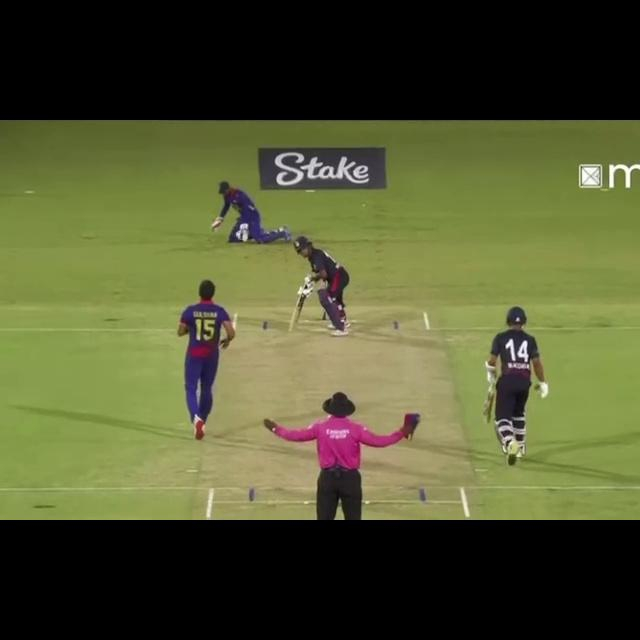umpire: (256, 383, 431, 518)
